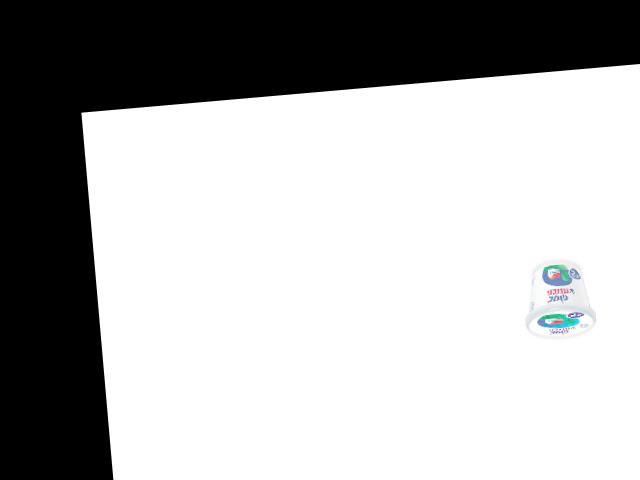cotage: (517, 256, 595, 343)
